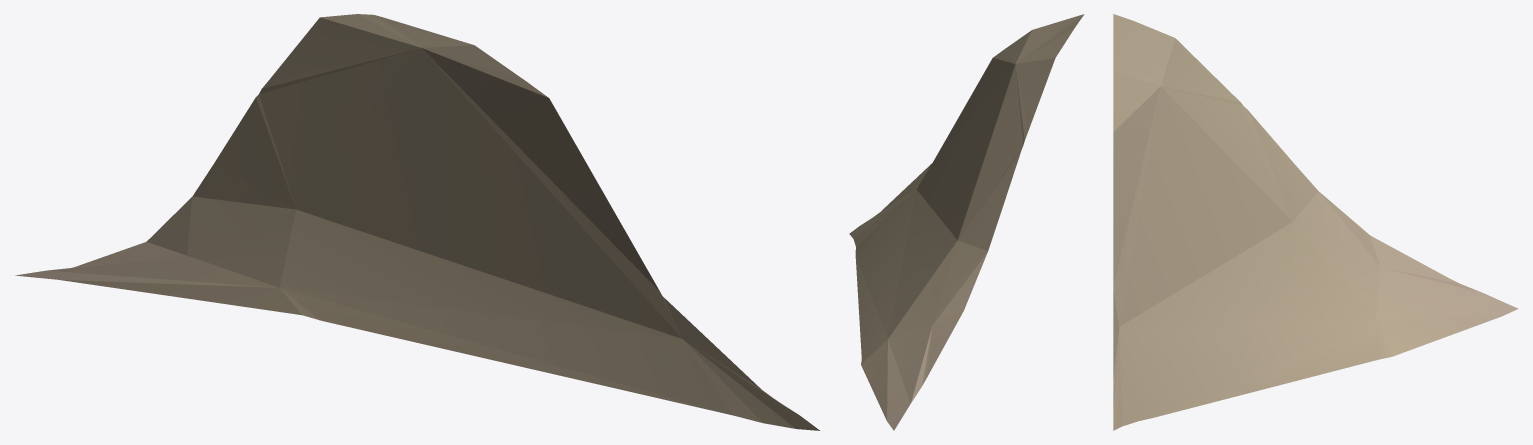
File: bisect-3-5-8.gltf
The picture shows the model from 3 angles, left to right: view 1: azimuth 30°, elevation 25°; view 2: azimuth 150°, elevation 25°; view 3: azimuth 270°, elevation 25°; orthographic projection. The views are drawn at different scales.
Parts seen in each view (by area): view 1: bisect-3-5-8; view 2: bisect-3-5-8; view 3: bisect-3-5-8.
Part boxes in pixels (x1,y1,x2,y2): bisect-3-5-8: (15,14,819,430); bisect-3-5-8: (849,14,1084,430); bisect-3-5-8: (1113,14,1518,430).
Size of the model in its own units: 4.51 by 5.07 by 6.33.
